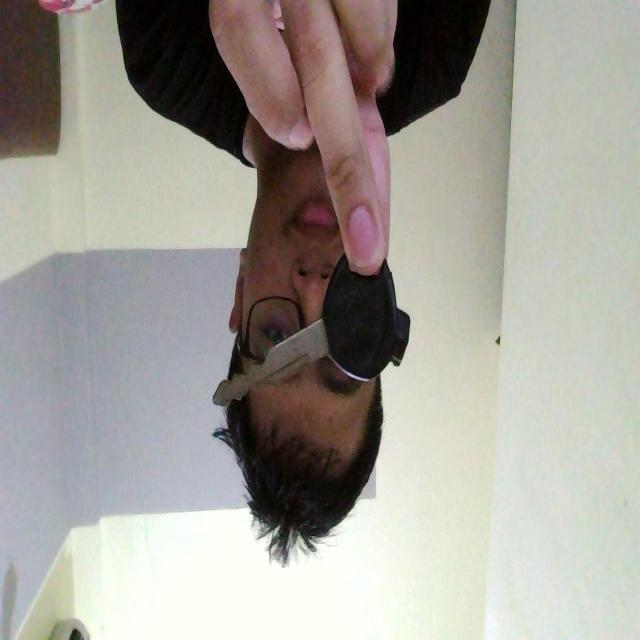kunci_motor: (209, 234, 409, 411)
